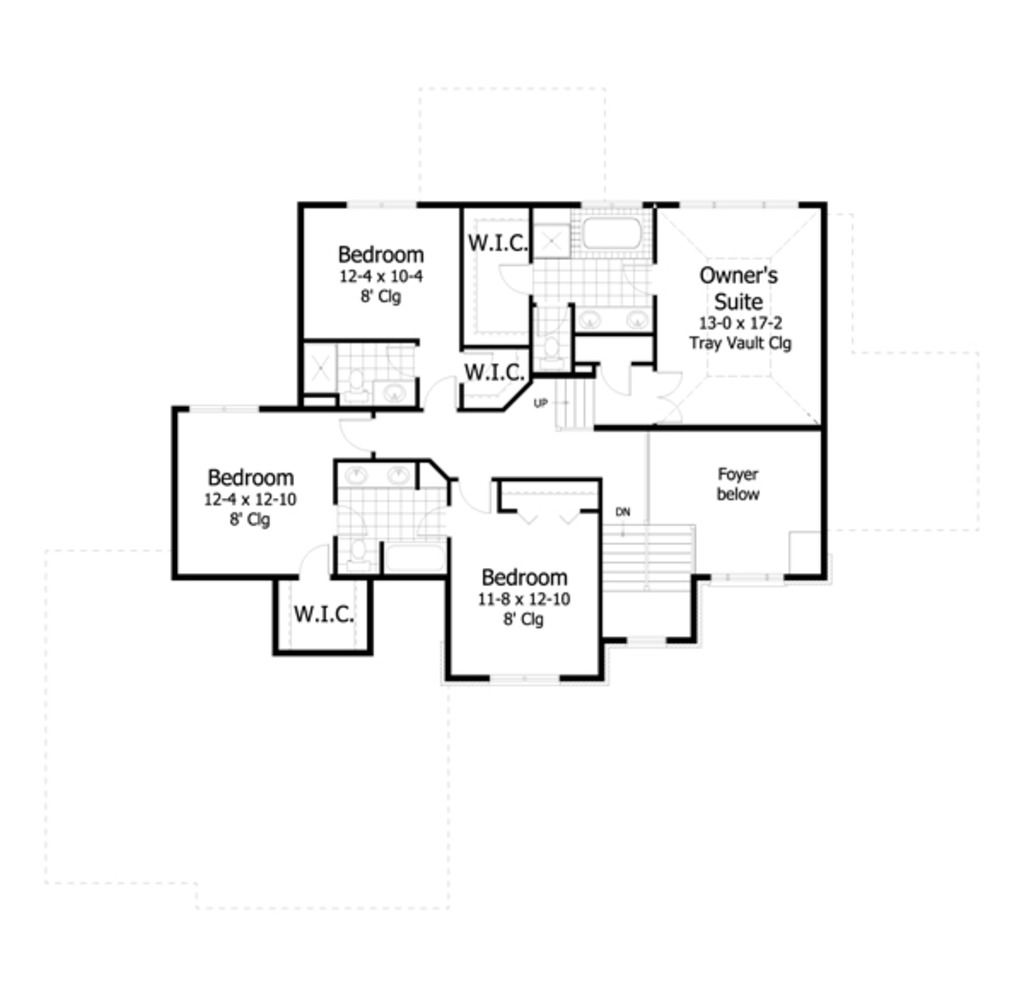door: (650, 361, 682, 437), (336, 406, 379, 452), (456, 479, 496, 520), (296, 544, 335, 586), (422, 374, 462, 413), (491, 262, 532, 299), (596, 365, 631, 396)
large_sink: (531, 325, 573, 379), (338, 534, 380, 574), (339, 365, 372, 411)
small_sink: (333, 459, 419, 492), (569, 307, 659, 336), (375, 379, 420, 413)
stairs: (600, 512, 701, 653)
tub: (566, 206, 655, 262)
windows: (668, 190, 802, 216), (339, 197, 419, 220), (180, 400, 265, 421), (477, 667, 563, 686)
